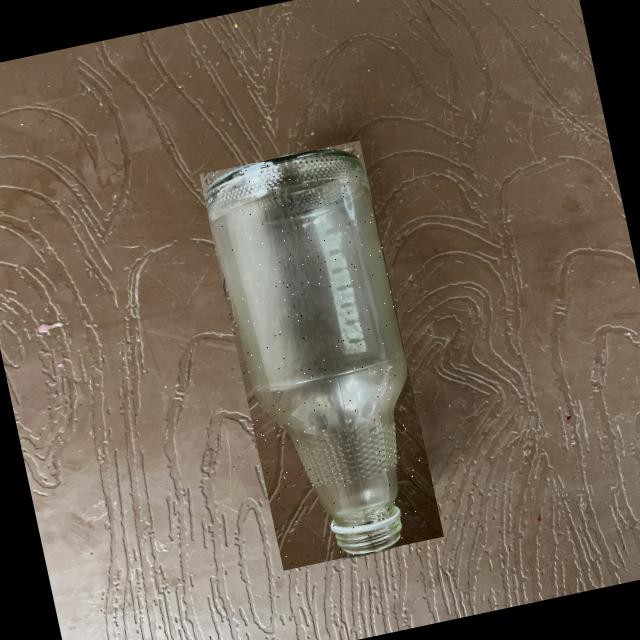Glass_Bottle: (205, 149, 406, 553)
